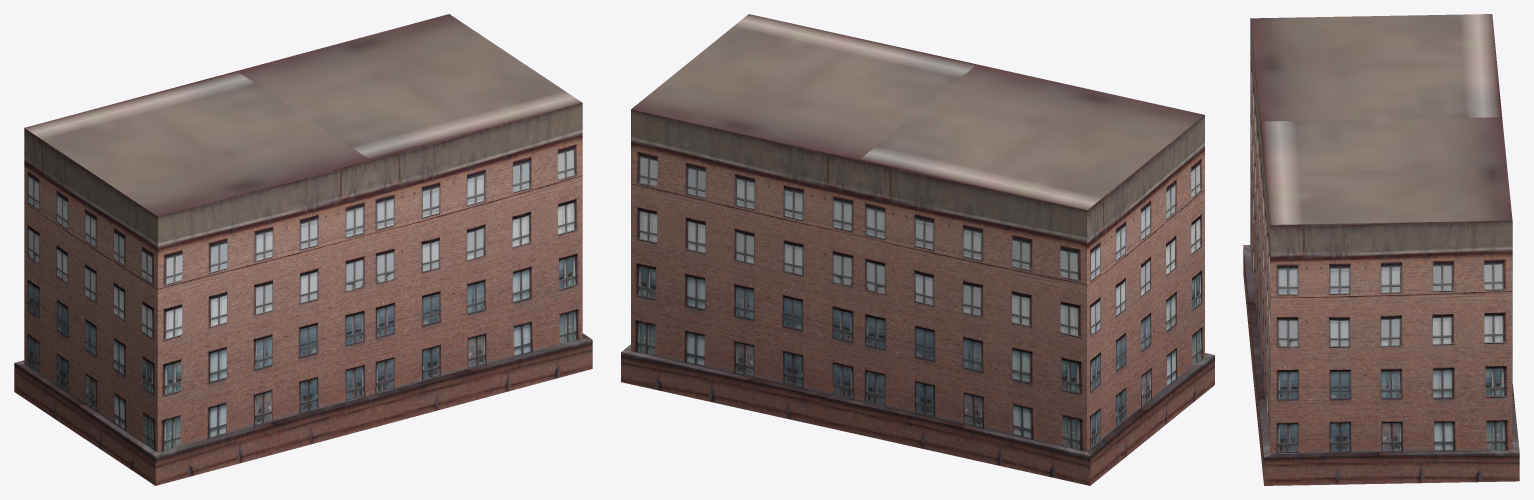
File: building2.glb
3 views of the same model, side by side, from view 1: azimuth 30°, elevation 25°; view 2: azimuth 150°, elevation 25°; view 3: azimuth 270°, elevation 25° (orthographic). The views are drawn at different scales.
Parts seen in each view (by area): view 1: building2; view 2: building2; view 3: building2.
Boxes of the visible parts, box(x1,y1,x2,y2) form: building2: box(14, 14, 592, 485); building2: box(621, 14, 1214, 485); building2: box(1243, 14, 1519, 485).
Size of the model in its own units: 55.01 by 30.49 by 29.61.
Materials: 1 (1 with a texture image).
